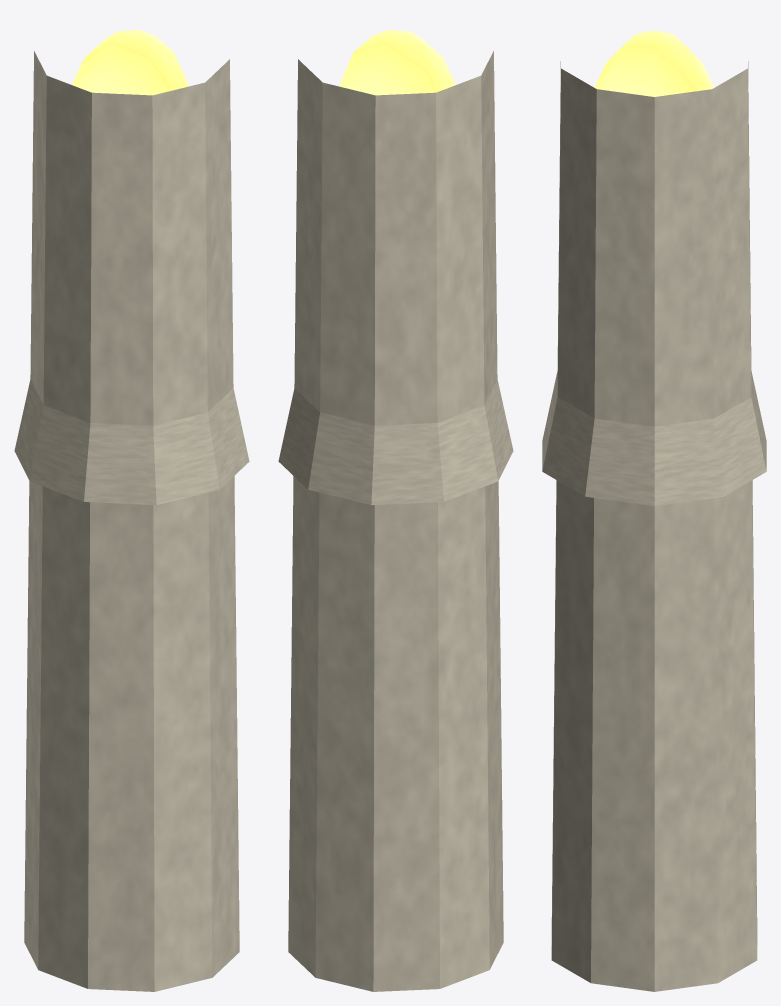
Rendered from candle.glb.
3 renders of one model, left to right at view 1: azimuth 30°, elevation 25°; view 2: azimuth 150°, elevation 25°; view 3: azimuth 270°, elevation 25°, orthographic.
Visible parts, largest first — view 1: Stick, Wax, Flame; view 2: Stick, Wax, Flame; view 3: Stick, Wax, Flame.
Boxes of the visible parts, left/top/right/bottom form: Stick: left=24, top=51, right=239, bottom=991; Wax: left=14, top=379, right=249, bottom=505; Flame: left=72, top=30, right=188, bottom=95; Stick: left=288, top=51, right=503, bottom=991; Wax: left=278, top=379, right=513, bottom=505; Flame: left=339, top=30, right=455, bottom=95; Stick: left=551, top=61, right=757, bottom=991; Wax: left=542, top=371, right=766, bottom=506; Flame: left=594, top=30, right=714, bottom=96.
Bounding box in the file's own units: 0.048 × 0.2048 × 0.0457.
3 materials, 2 textured.
